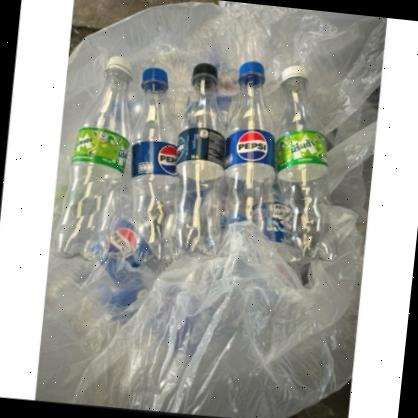bottle: (259, 62, 356, 263), (49, 50, 139, 265), (118, 62, 202, 270), (212, 58, 289, 249), (165, 60, 237, 258)
cap: (278, 63, 312, 92), (236, 61, 270, 84), (141, 66, 171, 91), (102, 55, 134, 78), (192, 63, 219, 85)
label: (67, 120, 130, 177), (274, 129, 336, 174), (224, 126, 278, 172), (128, 138, 182, 181), (177, 127, 228, 168)
